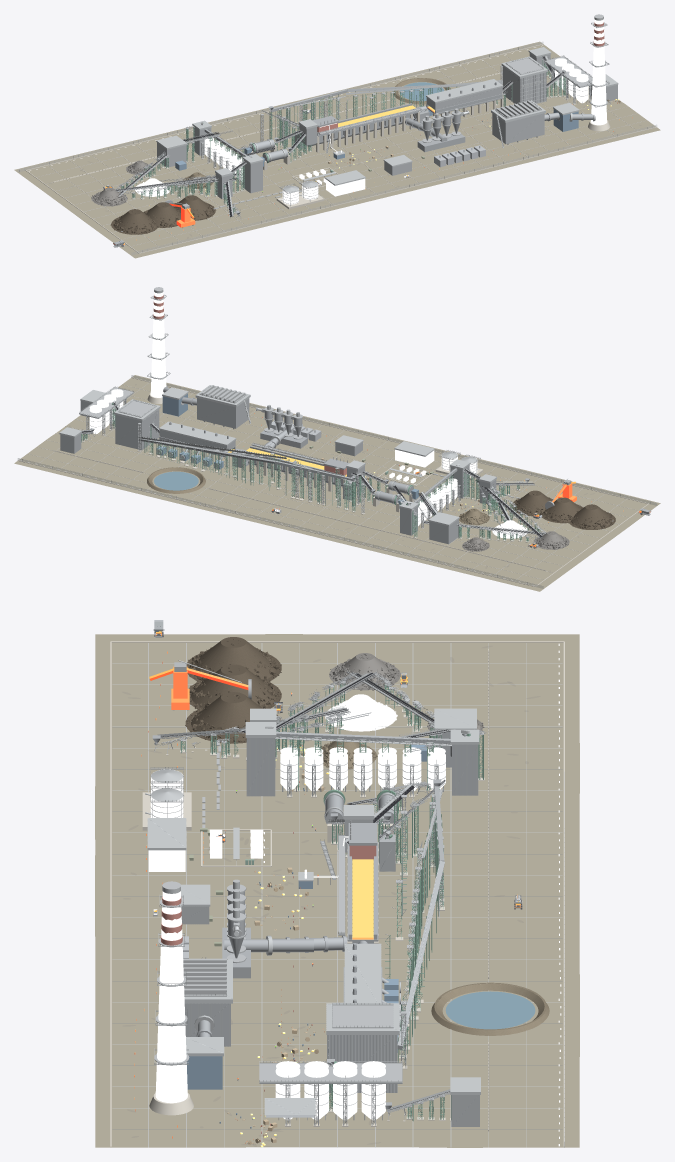
File: sinterplant.glb
3 renders of one model, top to bottom at view 1: azimuth 30°, elevation 25°; view 2: azimuth 150°, elevation 25°; view 3: azimuth 270°, elevation 25°, orthographic. The views are drawn at different scales.
Visible parts, largest first — view 1: structure/mat_8b8166_60, galv/galv, structure/clad, structure/green, structure/concrete, structure/roof, structure/seam, structure/steelD, structure/white, fence/mesh, structure/ore, structure/silo (+10 smaller); view 2: structure/mat_8b8166_60, galv/galv, structure/clad, structure/green, structure/concrete, structure/roof, structure/steelD, structure/seam, structure/white, fence/mesh, structure/ore, structure/silo (+8 smaller); view 3: structure/mat_8b8166_60, galv/galv, structure/clad, structure/seam, structure/roof, structure/silo, structure/white, structure/green, structure/concrete, structure/ore, structure/steelD, structure/water (+13 smaller).
Boxes of the visible parts, x1,y1,x2,y2 form: structure/mat_8b8166_60: (14,41,660,258); galv/galv: (115,14,610,231); structure/clad: (157,53,617,199); structure/green: (121,60,565,213); structure/concrete: (25,44,657,253); structure/roof: (156,47,618,185); structure/seam: (37,49,647,246); structure/steelD: (115,59,591,217); structure/white: (29,19,606,204); fence/mesh: (18,42,656,255); structure/ore: (111,195,215,234); structure/silo: (204,58,588,181); structure/mat_8b8166_60: (14,375,660,591); galv/galv: (79,287,613,537); structure/clad: (60,398,496,544); structure/green: (81,403,540,541); structure/concrete: (17,377,648,586); structure/roof: (59,385,496,526); structure/steelD: (79,392,545,542); structure/seam: (27,382,637,580); structure/white: (21,292,534,585); fence/mesh: (18,375,656,588); structure/ore: (511,490,615,529); structure/silo: (89,389,457,525); structure/mat_8b8166_60: (95,634,579,1147); galv/galv: (145,669,484,1125); structure/clad: (181,731,479,1126); structure/seam: (112,643,562,1147); structure/roof: (147,708,480,1114); structure/silo: (275,747,445,1119); structure/white: (148,643,561,1146); structure/green: (180,683,483,1121); structure/concrete: (110,641,564,1146); structure/ore: (185,637,281,743); structure/steelD: (152,674,486,1120); structure/water: (445,991,535,1029).
Size of the model in its own units: 601 by 119 by 237.
Materials: 59 (17 with a texture image).
